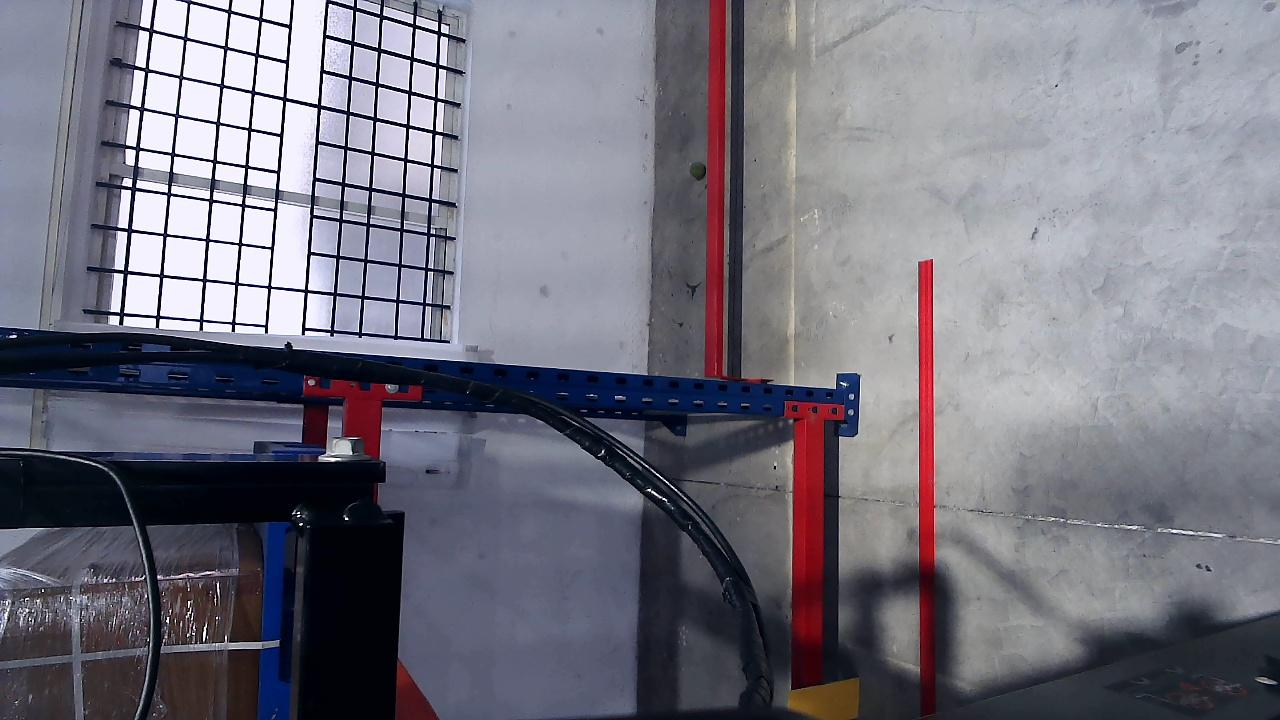h_rack: (791, 417, 825, 718)
orange_strip: (788, 677, 860, 719)
red_line: (915, 254, 942, 718)
